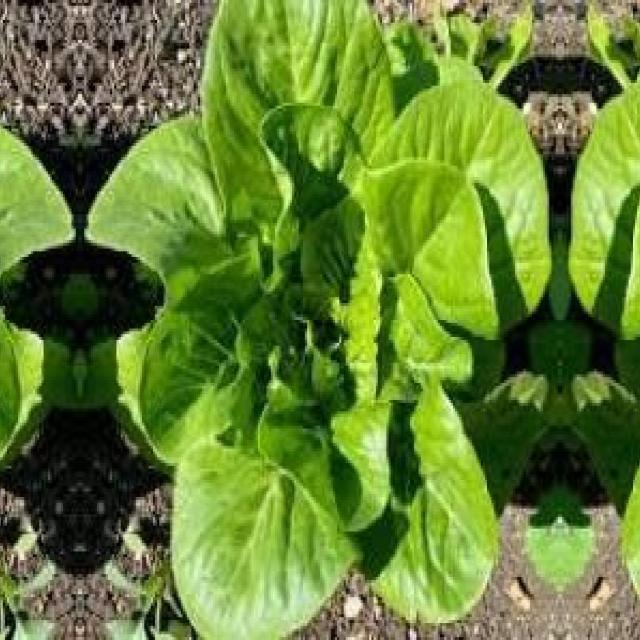healthy: (102, 0, 560, 640), (559, 0, 640, 640), (0, 0, 58, 640)
